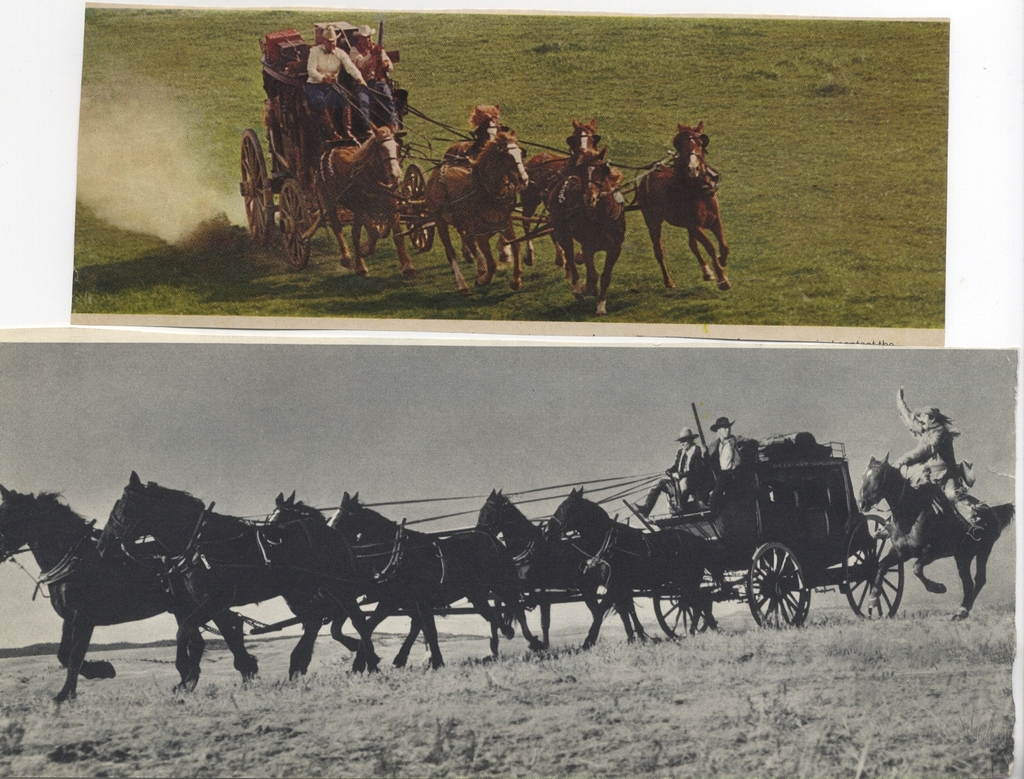Person: (307, 24, 984, 531), (302, 17, 402, 146)
